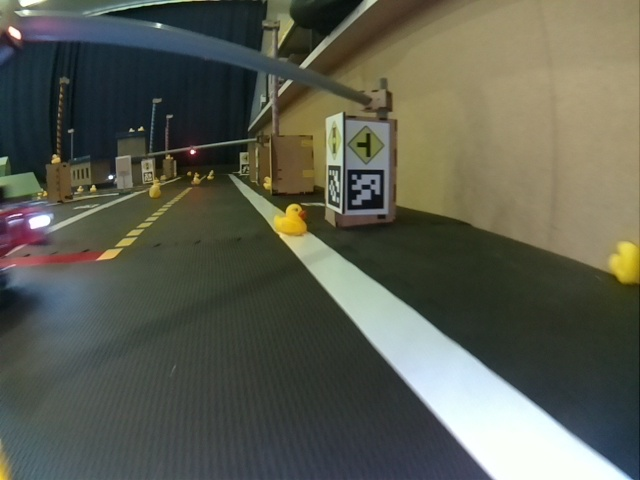Duckie: (611, 242, 639, 285), (274, 204, 305, 234), (150, 186, 160, 196), (265, 177, 272, 190), (51, 154, 61, 163), (206, 170, 214, 178), (193, 177, 198, 183)
Intersection sign: (349, 125, 385, 163)
QR code: (347, 168, 385, 210), (326, 166, 341, 207)
Signal sign: (326, 120, 341, 161)
